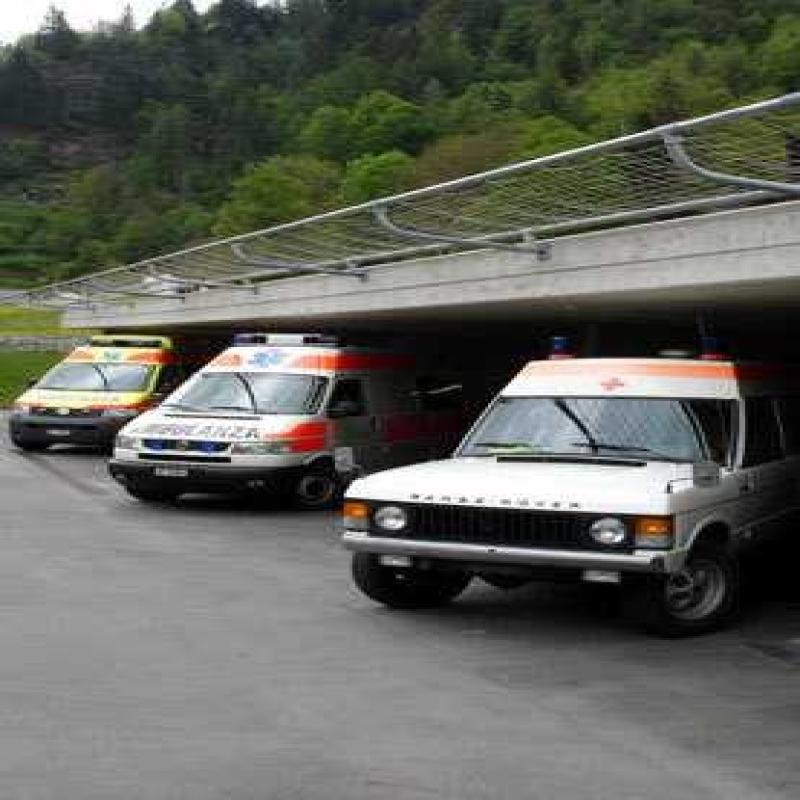AmbulanceSiren: (206, 320, 365, 365)
